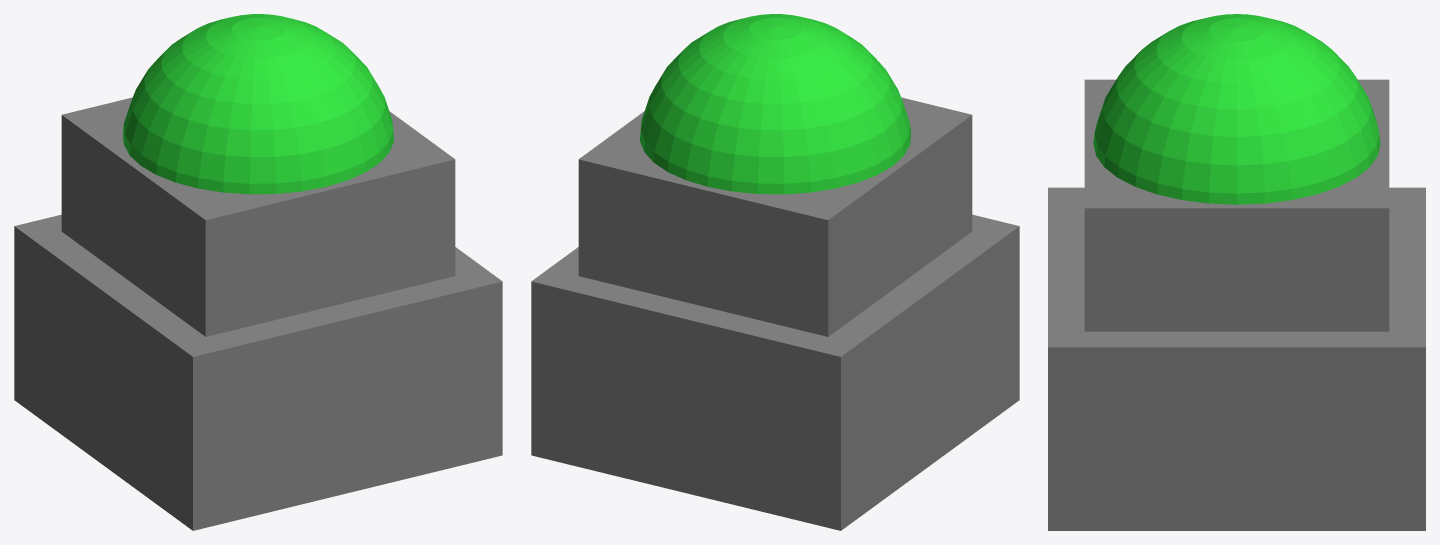
The model's file is gruener_button.glb.
3 renders of one model, left to right at view 1: azimuth 30°, elevation 25°; view 2: azimuth 150°, elevation 25°; view 3: azimuth 270°, elevation 25°, orthographic. The views are drawn at different scales.
Parts seen in each view (by area): view 1: Cube, Cube.001, Sphere; view 2: Cube, Cube.001, Sphere; view 3: Cube, Cube.001, Sphere.
Part boxes in pixels (x1,y1,x2,y2): Cube: (14,214,502,530); Cube.001: (61,97,455,336); Sphere: (123,14,393,194); Cube: (531,214,1019,530); Cube.001: (578,97,972,336); Sphere: (640,14,910,194); Cube: (1048,187,1425,530); Cube.001: (1084,79,1389,331); Sphere: (1093,14,1380,204).
Bounding box in the file's own units: 2 × 2.48 × 2.
